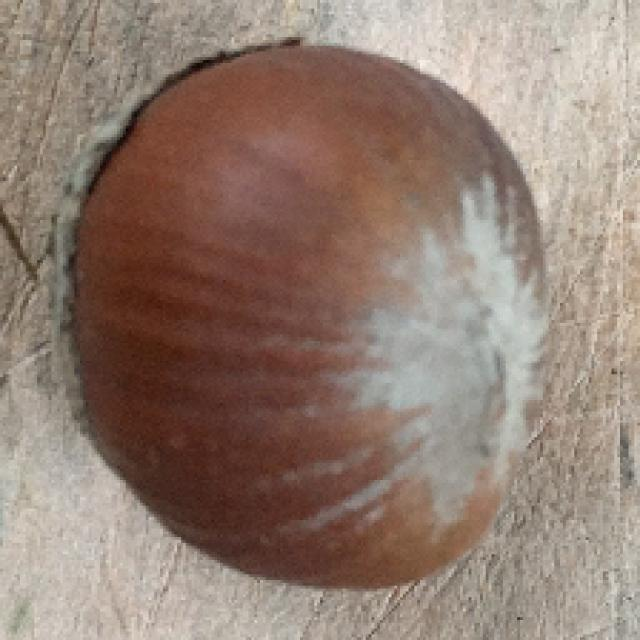damagedHazelnut: (46, 41, 562, 589)
